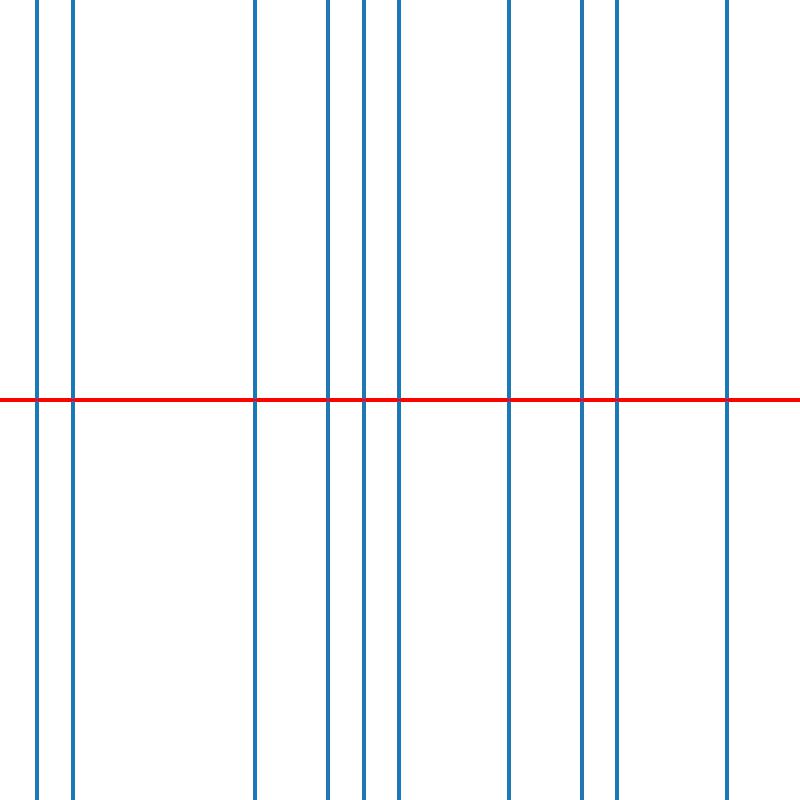root: (32, 396, 40, 404), (250, 396, 258, 404), (614, 396, 621, 404), (69, 396, 76, 404), (396, 396, 403, 404), (323, 396, 330, 404), (505, 396, 512, 404), (578, 396, 585, 404), (360, 396, 367, 404), (723, 396, 730, 404)
